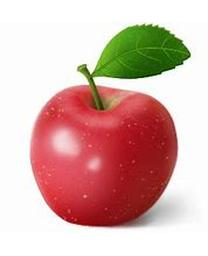apple: (29, 83, 178, 226)
